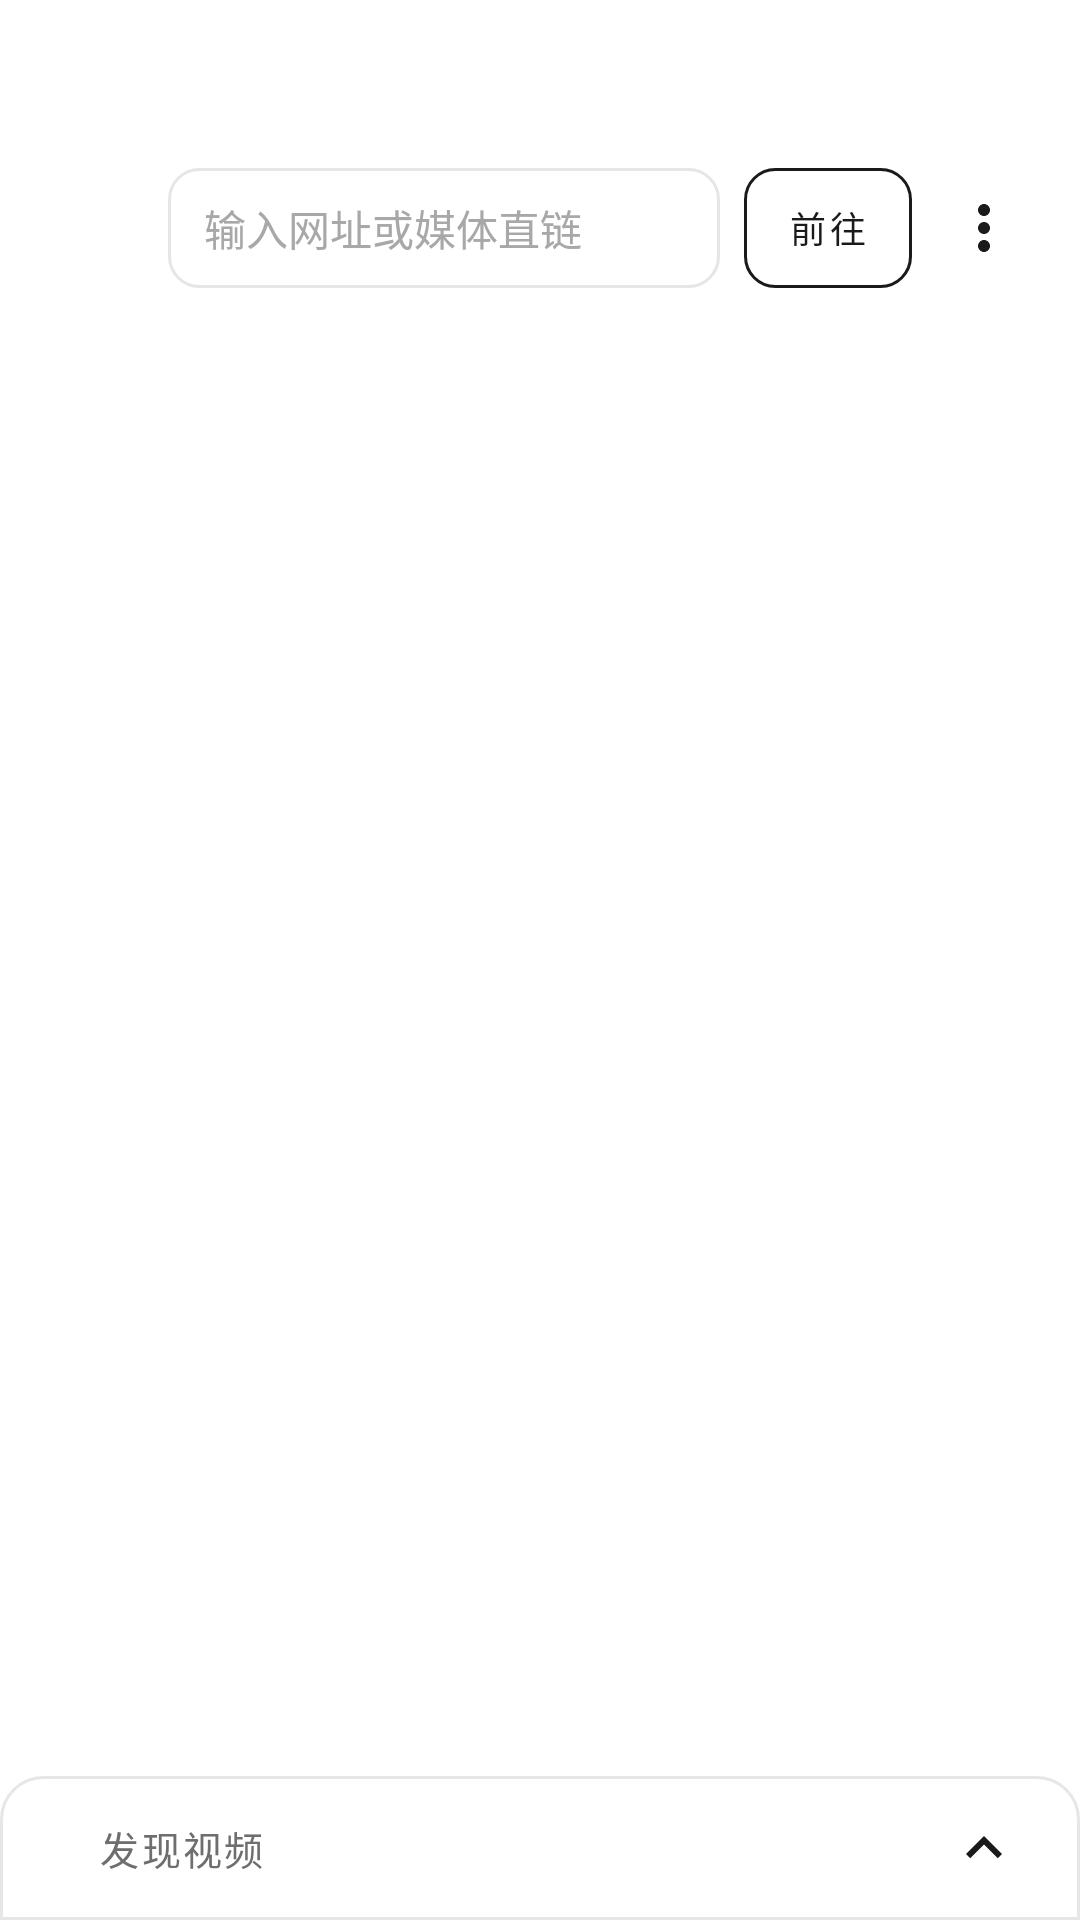

Screen size 1080px×1920px. Icon name, then its box in pixels as bbox=(x1, y1, x2, y2):
更多: bbox=(978, 204, 990, 252)
